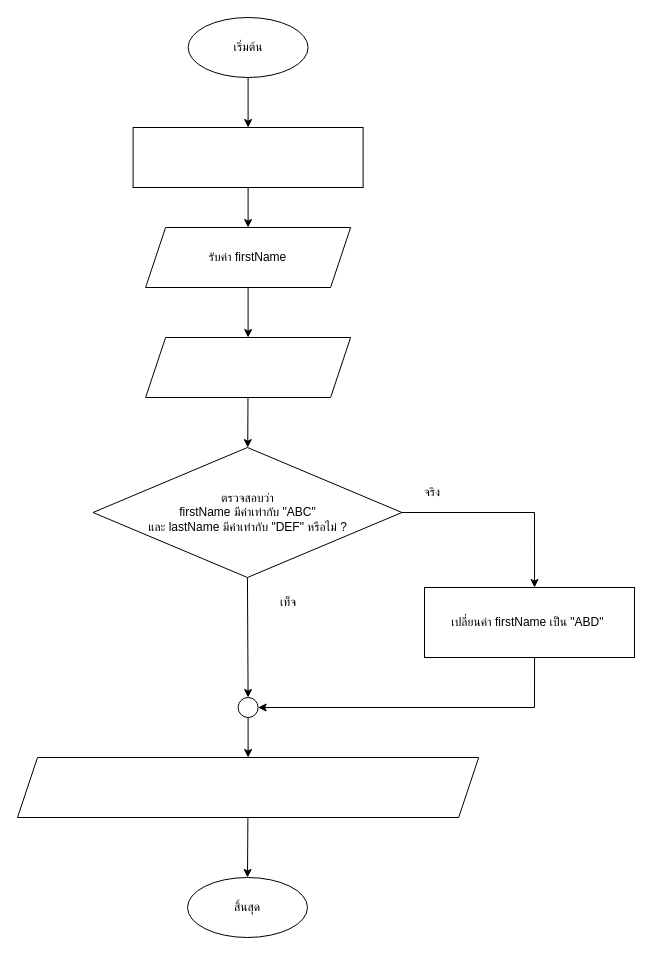
The diagram is 652 pixels wide and 955 high, and some of its shapes have lost their labels. Here are the shapes that lost their labels. From the top down, the centre of each, then its label:
pixel 247 157: ประกาศ firstName และ lastName ขนาด 100 ตัวอักษร
pixel 248 367: รับค่า lastName
pixel 247 787: แสดง firstName + " " + lastName + "s TC, RMUTL, Chiang Mai, Thailand"
